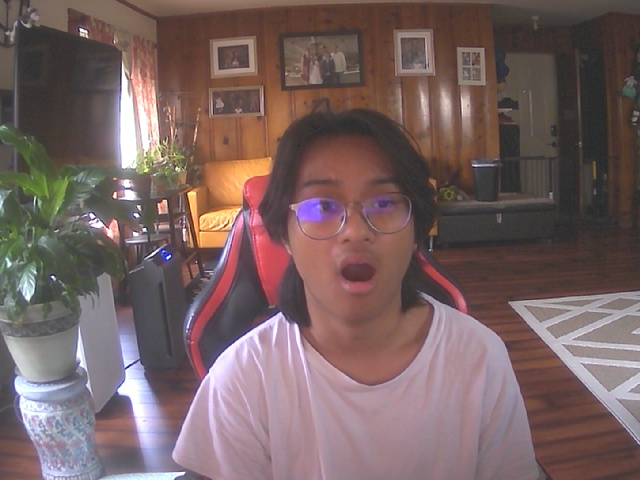fear: (277, 117, 425, 320)
